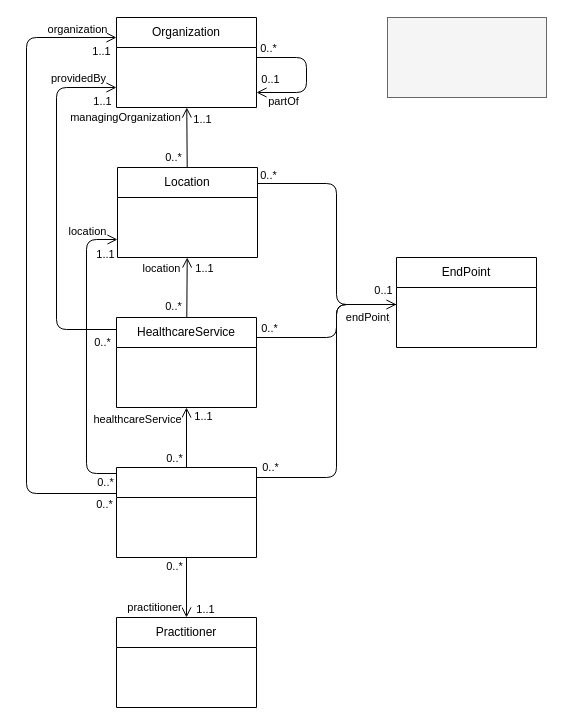
The diagram is 564 pixels wide and 725 high, and some of its shapes have lost their labels. The shapes that lost their labels are listed below. From the top down, each one's box as (x1, y1, x2, y2) in pixels, then its label:
(386, 16, 546, 98): UML class diagram of HCA FHIR resources 2025-11-25
(116, 466, 256, 558): PractitionerRole
